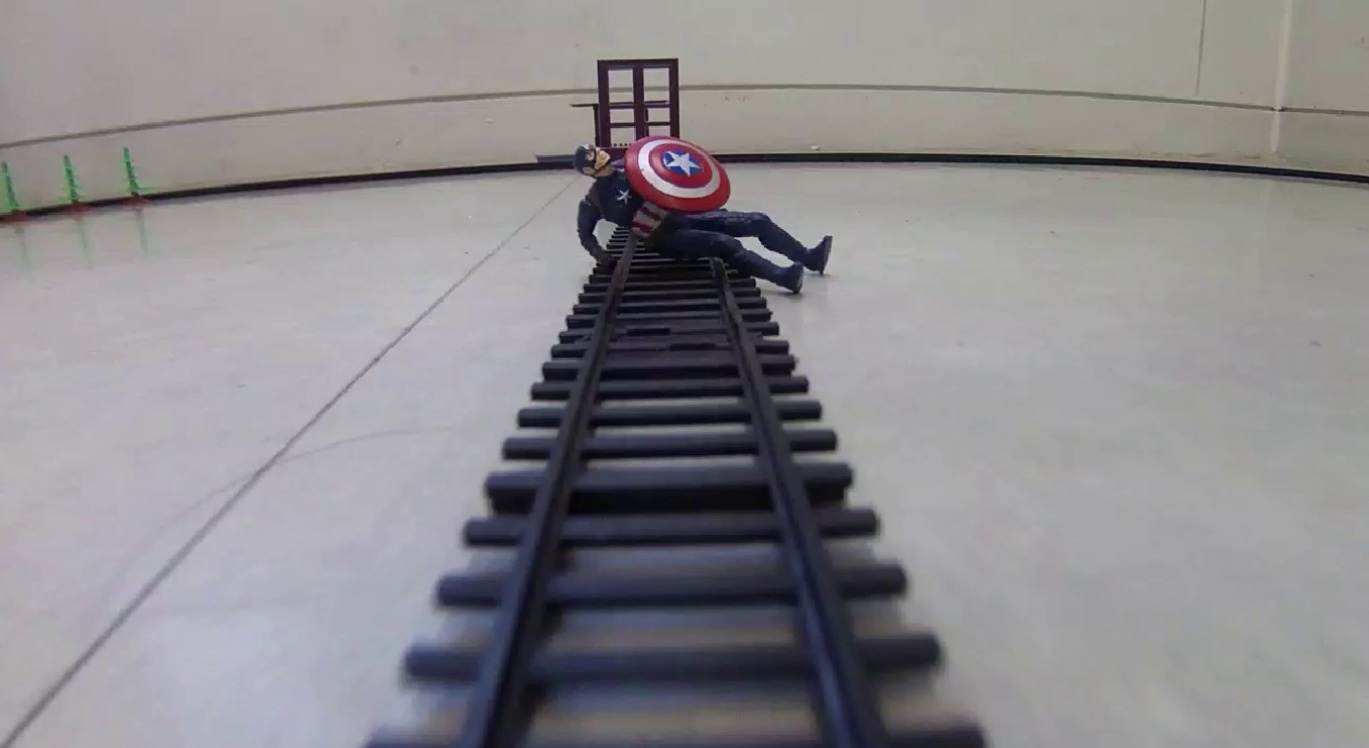people: (577, 134, 834, 297)
